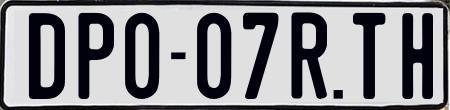0: (125, 11, 165, 103), (195, 12, 232, 103)
7: (242, 13, 282, 99)
D: (27, 13, 69, 100)
H: (400, 10, 436, 102)
P: (75, 13, 115, 101)
R: (291, 10, 333, 97)
T: (352, 13, 388, 105)
